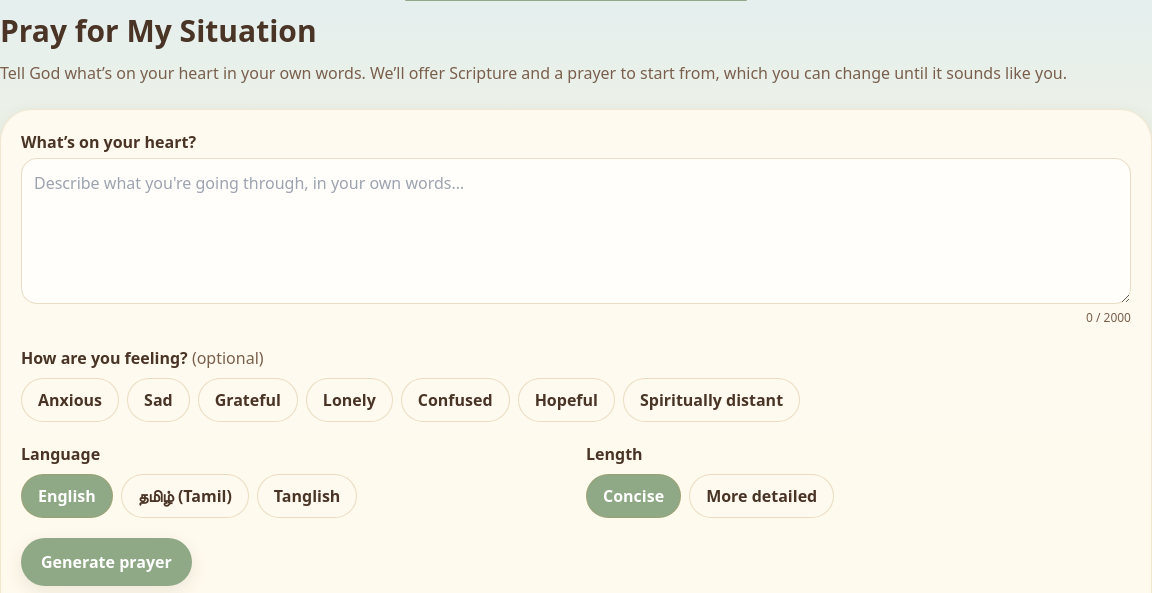
Test: Scripture is rendered separately from generated text › notes that Scripture stays in English for Tamil and Tanglish prayers
Click the radio button labelled "தமிழ் (Tamil)": (185,496) [121,474,249,518]
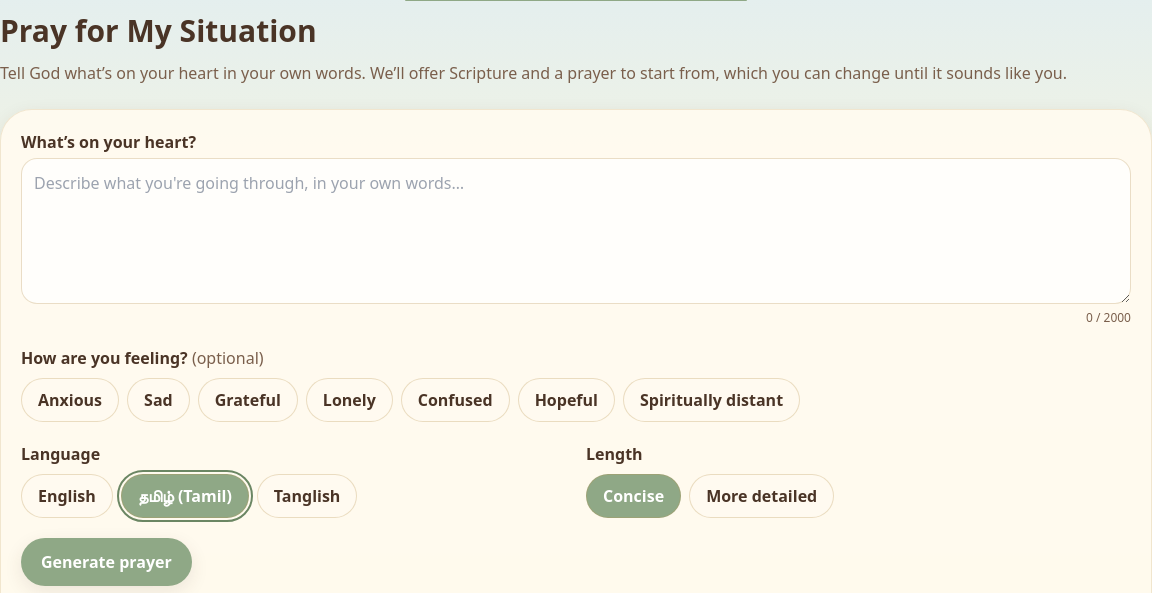
In the text box labelled "What’s on your heart? 0 / 2000": (576,231) [21,158,1131,304], type "I am anxious about my exams and cannot sleep."
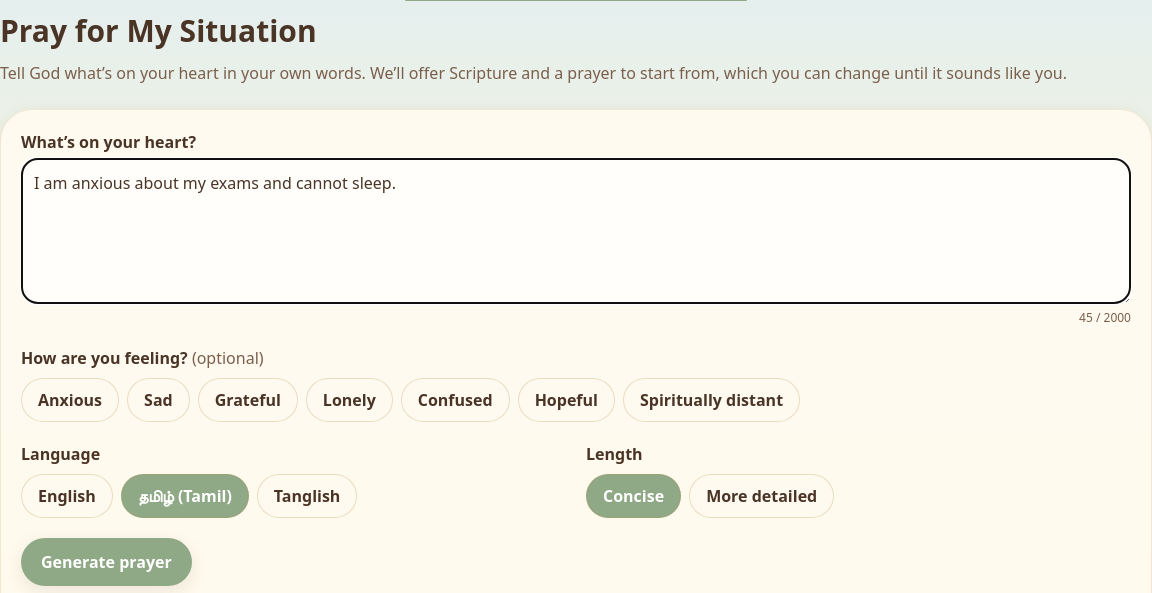
Click the button "Generate prayer": (106,562) [21,538,192,586]
(page scrolled)
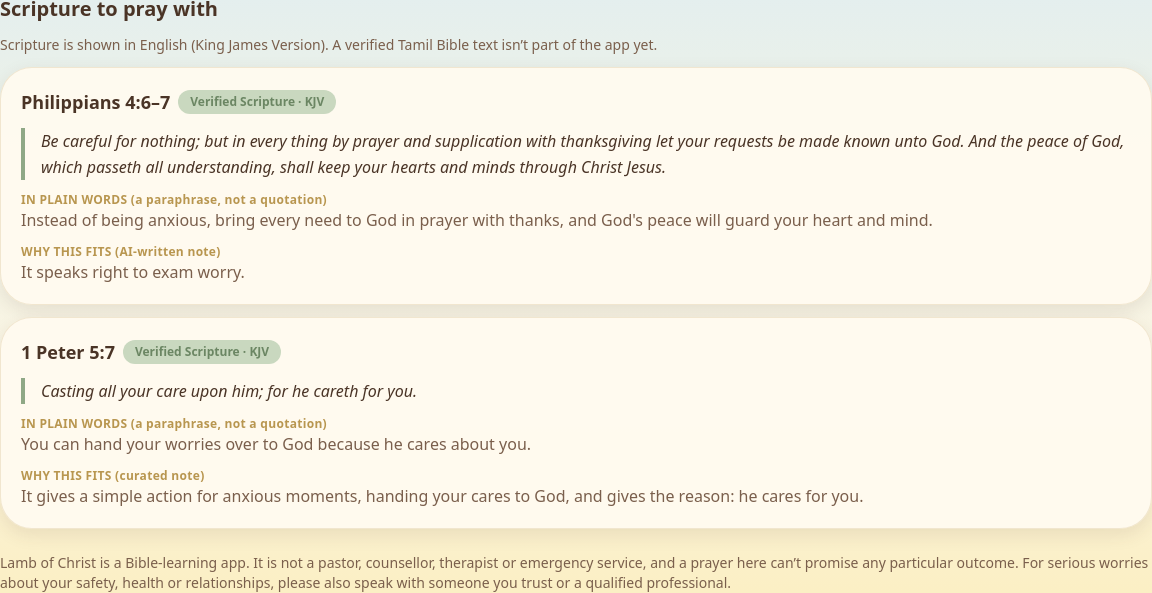
Expected: the element with test id "scripture-region" shows "shown in English (King James Version)", [0,35,657,54]
